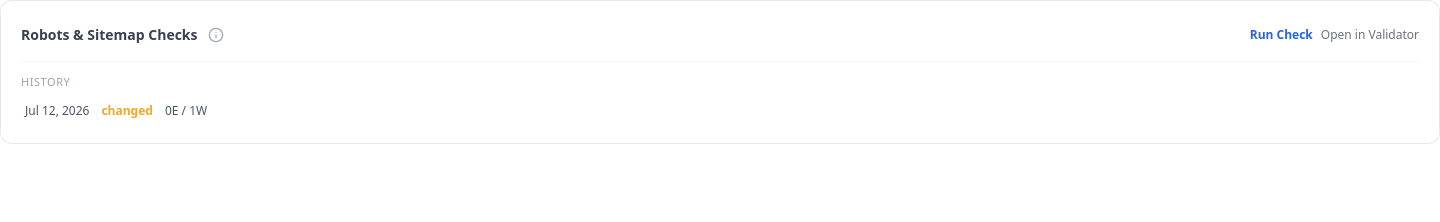
Scenario: changed-vs-previous section (D5) › reorder-only (non-null EMPTY diff) renders the formatting-only notice
Click the button "Jul 12, 2026 changed 0E / 1W": [57, 110] box [21, 98, 1419, 122]
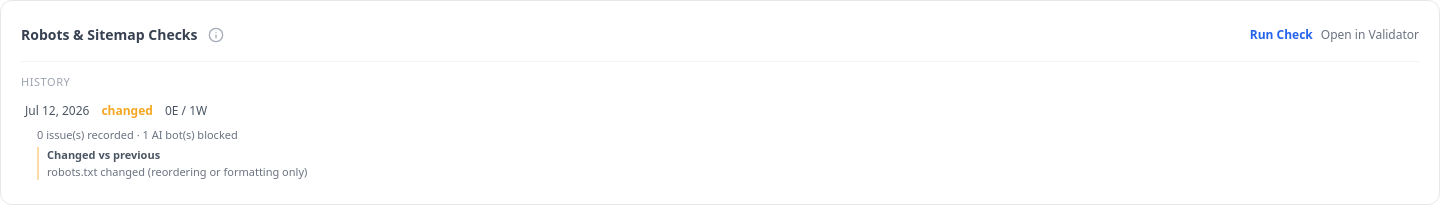
Now the text "robots.txt changed (reordering or formatting only)" is shown, box [47, 164, 307, 178]
